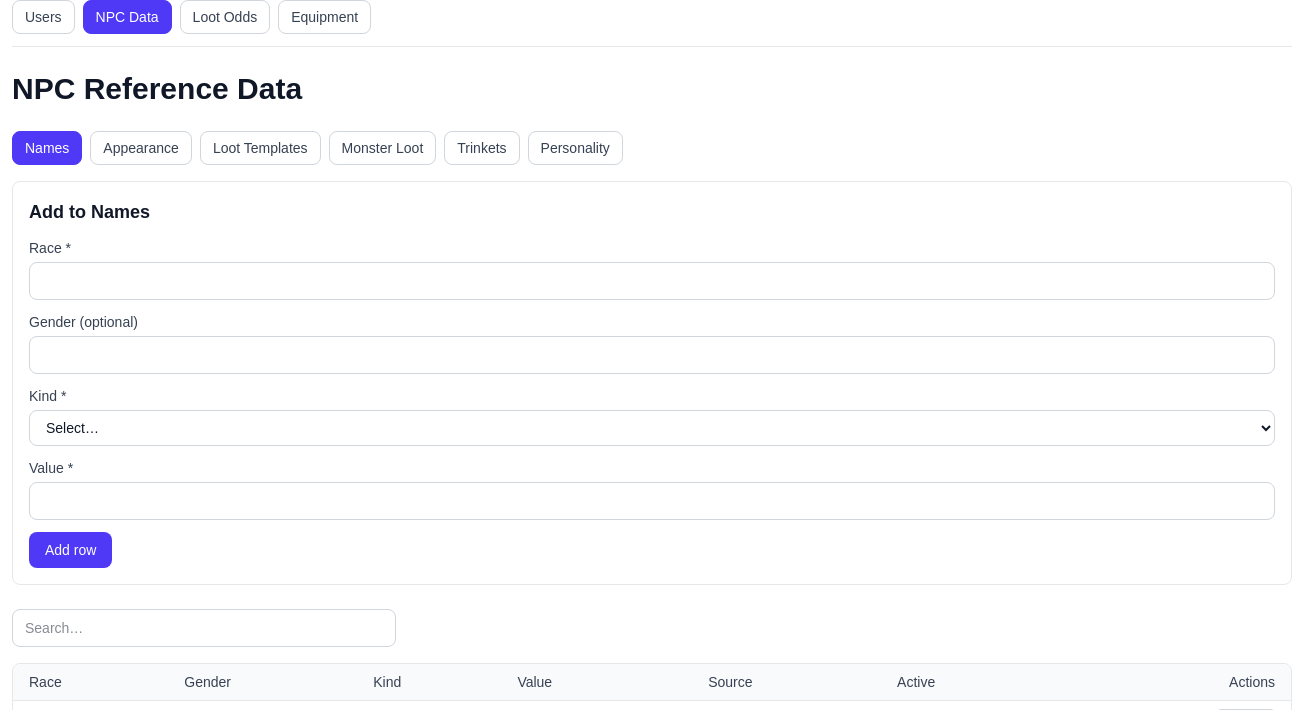
Test: AdminNpcDataPage › clears the previous tab’s rows when a load fails
Click the tab "Monster Loot": [382, 148] box [329,131,436,165]
(page scrolled)
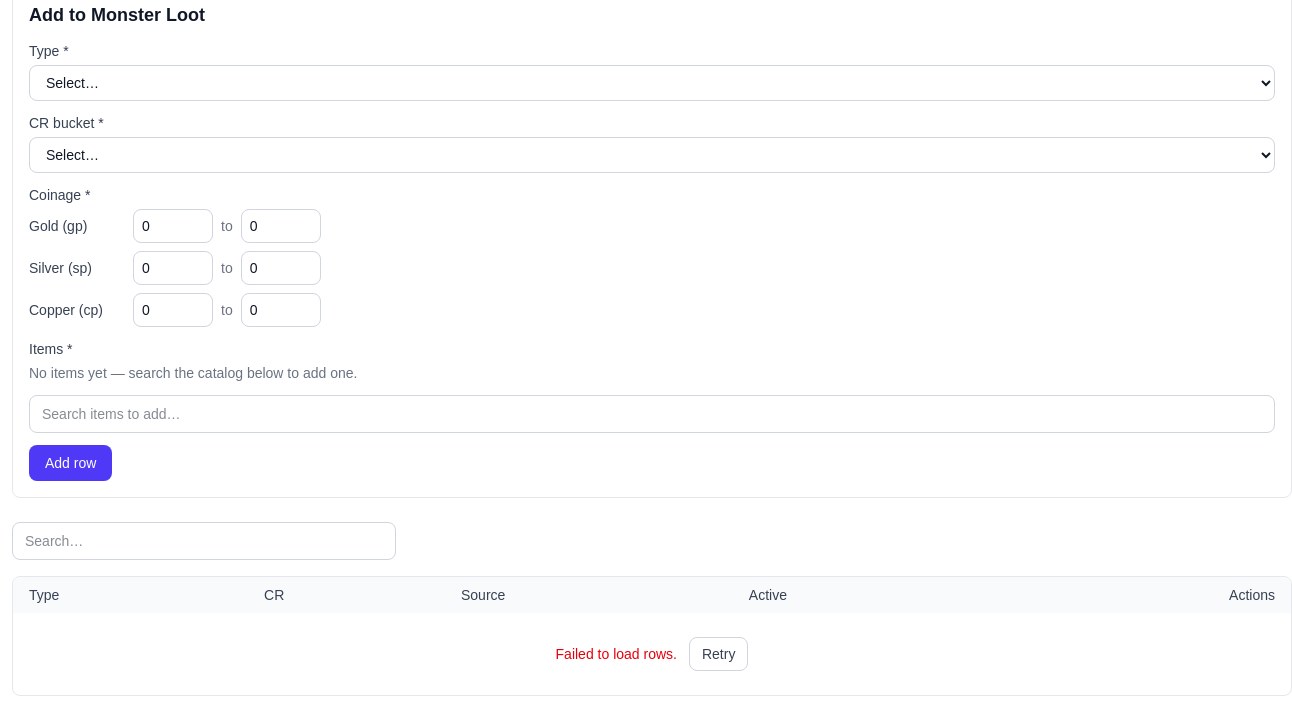
Result: the message shows "Failed to load rows." at [556,646,677,662]
